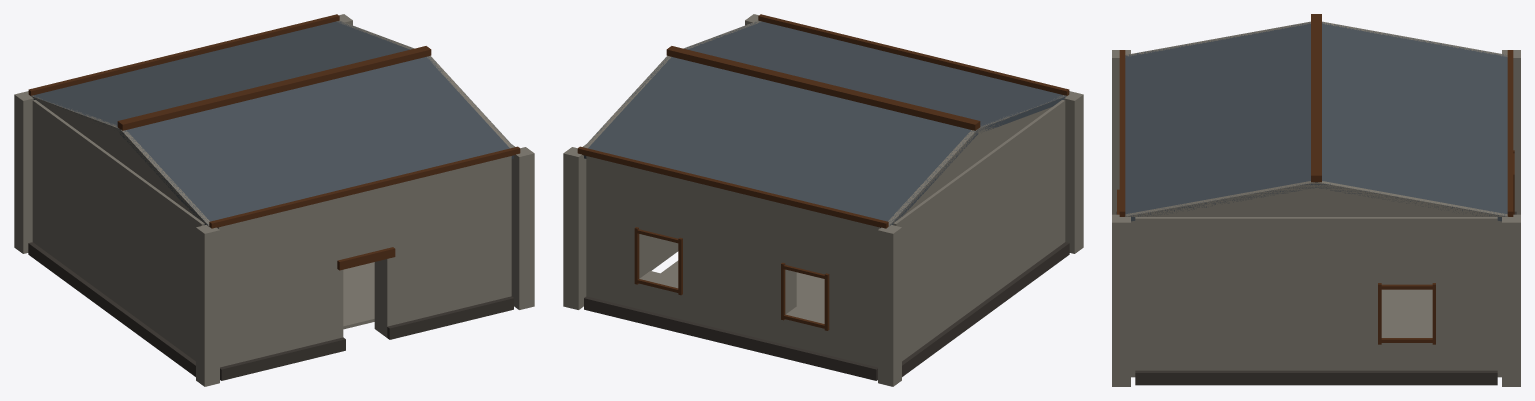
File: vault.glb
The picture shows the model from 3 angles, left to right: view 1: azimuth 30°, elevation 25°; view 2: azimuth 150°, elevation 25°; view 3: azimuth 270°, elevation 25°; orthographic projection. The views are drawn at different scales.
Parts seen in each view (by area): view 1: vault_stone, vault_slate, vault_timber, vault_plinth; view 2: vault_stone, vault_slate, vault_timber, vault_plinth; view 3: vault_stone, vault_slate, vault_plinth, vault_timber.
Boxes of the visible parts, x1,y1,x2,y2 form: vault_stone: (14,14,534,386); vault_slate: (31,21,514,228); vault_timber: (28,14,520,270); vault_plinth: (28,242,513,380); vault_stone: (563,14,1083,386); vault_slate: (583,21,1066,228); vault_timber: (577,14,1069,330); vault_plinth: (584,242,1069,380); vault_stone: (1112,21,1520,386); vault_slate: (1125,22,1507,221); vault_plinth: (1116,211,1516,385); vault_timber: (1117,14,1514,344).
Bounding box in the file's own units: 9.02 × 5.01 × 9.02.
